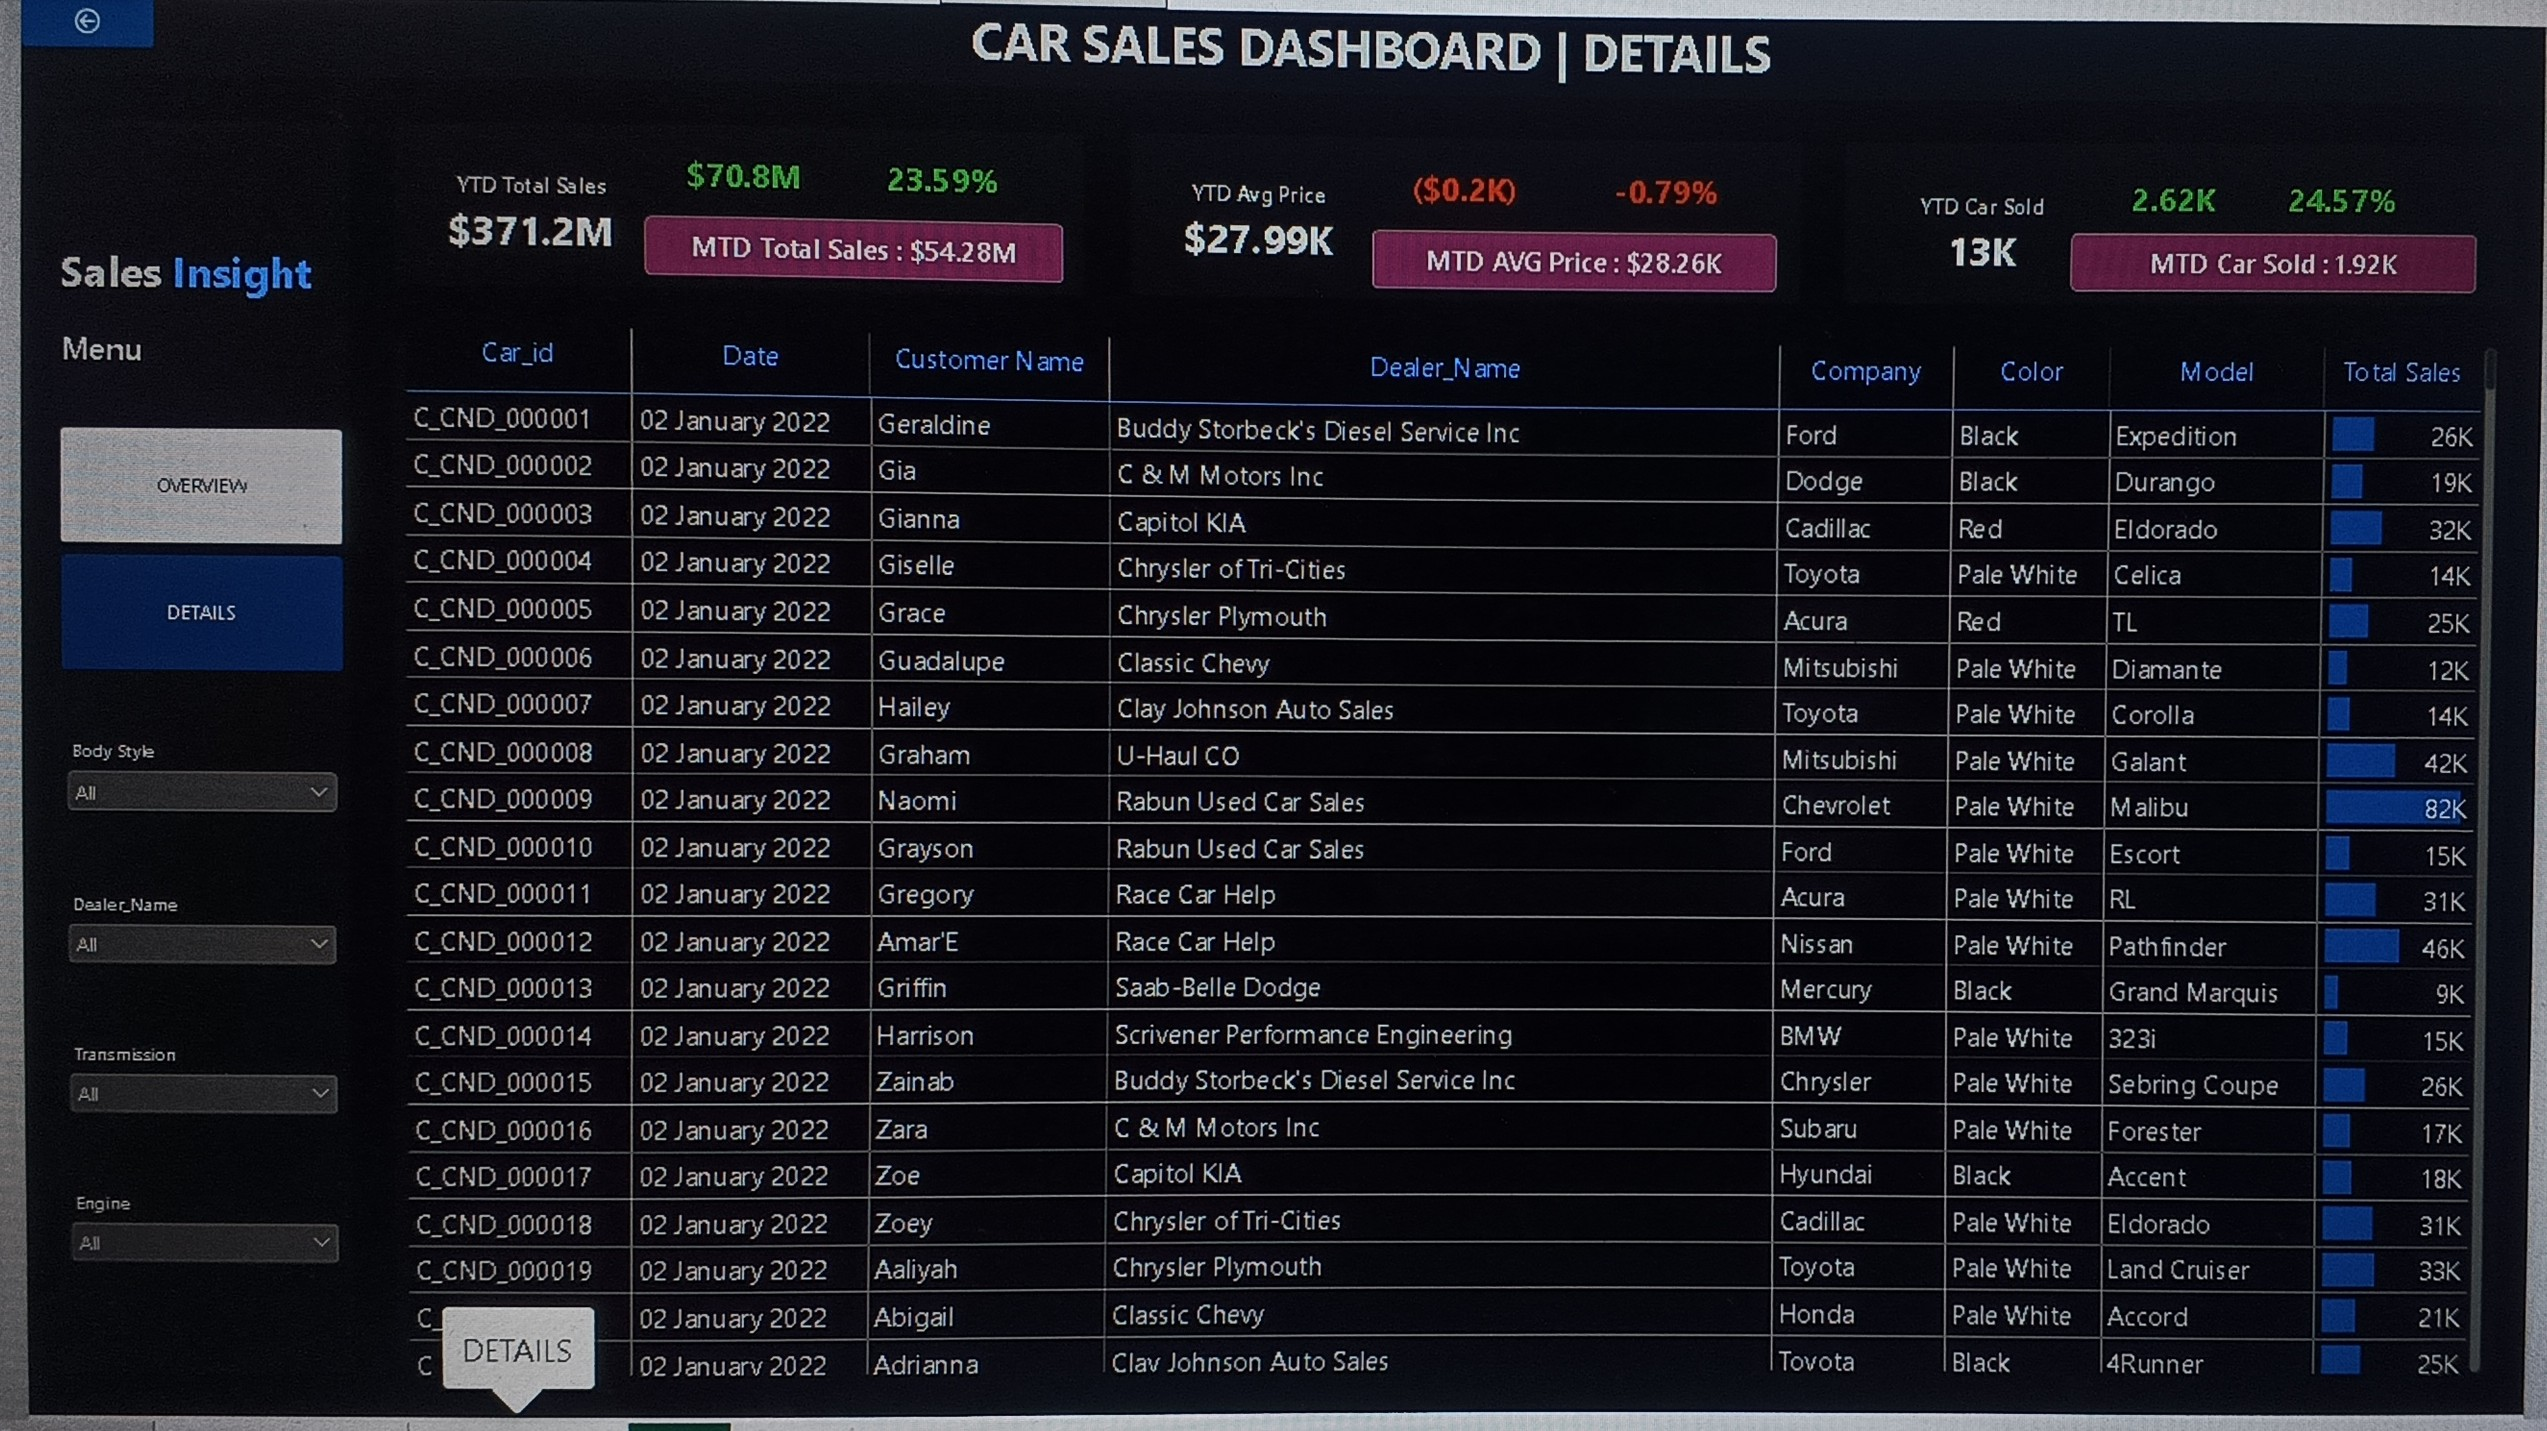

The dashboard page shown, as its layout file describes it:
{"tool":"powerbi","page":{"name":"DETAILS","canvas":[1920,1080],"ordinal":1},"visuals":[{"type":"cardVisual","fields":{"Data":["car_data.YTD Total Sales"]},"box":[190,52.5,387.5,220],"z":0},{"type":"cardVisual","fields":{"Data":["car_data.Sales Differances"]},"box":[438,98,210,62],"z":1000},{"type":"cardVisual","fields":{"Data":["car_data.YoY Sales Growth"]},"box":[600,98,180,62],"z":2000},{"type":"cardVisual","fields":{"Data":["car_data.MTD KPI"]},"box":[468,162,312,44],"z":3000},{"type":"cardVisual","fields":{"Data":["car_data.YTD Avg Price"]},"box":[736,50,387.5,220],"z":4000},{"type":"cardVisual","fields":{"Data":["car_data.Avg Diff price"]},"box":[982,98,210,62],"z":5000},{"type":"cardVisual","fields":{"Data":["car_data.YoY Avg Growth Price"]},"box":[1138,98,210,62],"z":6000},{"type":"cardVisual","fields":{"Data":["car_data.MTD AVG KPI"]},"box":[1016,162,312,44],"z":7000},{"type":"cardVisual","fields":{"Data":["car_data.YTD Car Sold"]},"box":[1292.4,52.2,387.5,220],"z":8000},{"type":"cardVisual","fields":{"Data":["car_data.Sold Car Diff"]},"box":[1528.6,102.2,210,62],"z":9000},{"type":"cardVisual","fields":{"Data":["car_data.YTD Car Sold Growth"]},"box":[1658.1,102.2,210,62],"z":10000},{"type":"cardVisual","fields":{"Data":["car_data.MTD Car Sold KPI"]},"box":[1555.8,161.3,312,44],"z":11000},{"type":"textbox","box":[630,0,775,80],"z":17000},{"type":"actionButton","box":[0,0,100,40],"z":18000},{"type":"slicer","fields":{"Values":["car_data.Dealer_Name"]},"box":[29.5,674.6,212.5,112.5],"z":19000},{"type":"slicer","fields":{"Values":["car_data.Transmission"]},"box":[29.5,788.1,212.5,112.5],"z":20000},{"type":"slicer","fields":{"Values":["car_data.Engine"]},"box":[29.5,901.7,212.5,112.5],"z":21000},{"type":"slicer","fields":{"Values":["car_data.Body Style"]},"box":[29.5,558.7,212.9,87.1],"z":22000},{"type":"tableEx","fields":{"Values":["car_data.Car_id","car_data.Date","car_data.Customer Name","car_data.Dealer_Name","car_data.Company","car_data.Color","car_data.Model","car_data.Total Sales"]},"box":[272.5,232.5,1627.5,825],"z":22001},{"type":"textbox","box":[29.5,184,243,65.9],"z":22002},{"type":"textbox","box":[29.5,249.8,243,150],"z":22003},{"type":"pageNavigator","box":[29.5,324.8,213.5,184],"z":22004}]}

Visuals, with their boxes in screenshot pixels (x1, y1, x2, y2), scaled from the page's 1920x1080 canvas onto the 2547x1431 screenshot:
cardVisual - car_data.YTD Total Sales: {"x1": 252, "y1": 70, "x2": 766, "y2": 361}
cardVisual - car_data.Sales Differances: {"x1": 581, "y1": 130, "x2": 860, "y2": 212}
cardVisual - car_data.YoY Sales Growth: {"x1": 796, "y1": 130, "x2": 1035, "y2": 212}
cardVisual - car_data.MTD KPI: {"x1": 621, "y1": 215, "x2": 1035, "y2": 273}
cardVisual - car_data.YTD Avg Price: {"x1": 976, "y1": 66, "x2": 1490, "y2": 358}
cardVisual - car_data.Avg Diff price: {"x1": 1303, "y1": 130, "x2": 1581, "y2": 212}
cardVisual - car_data.YoY Avg Growth Price: {"x1": 1510, "y1": 130, "x2": 1788, "y2": 212}
cardVisual - car_data.MTD AVG KPI: {"x1": 1348, "y1": 215, "x2": 1762, "y2": 273}
cardVisual - car_data.YTD Car Sold: {"x1": 1714, "y1": 69, "x2": 2228, "y2": 361}
cardVisual - car_data.Sold Car Diff: {"x1": 2028, "y1": 135, "x2": 2306, "y2": 218}
cardVisual - car_data.YTD Car Sold Growth: {"x1": 2200, "y1": 135, "x2": 2478, "y2": 218}
cardVisual - car_data.MTD Car Sold KPI: {"x1": 2064, "y1": 214, "x2": 2478, "y2": 272}
textbox: {"x1": 836, "y1": 0, "x2": 1864, "y2": 106}
actionButton: {"x1": 0, "y1": 0, "x2": 133, "y2": 53}
slicer - car_data.Dealer_Name: {"x1": 39, "y1": 894, "x2": 321, "y2": 1043}
slicer - car_data.Transmission: {"x1": 39, "y1": 1044, "x2": 321, "y2": 1193}
slicer - car_data.Engine: {"x1": 39, "y1": 1195, "x2": 321, "y2": 1344}
slicer - car_data.Body Style: {"x1": 39, "y1": 740, "x2": 322, "y2": 856}
tableEx - car_data.Car_id x car_data.Date: {"x1": 361, "y1": 308, "x2": 2520, "y2": 1401}
textbox: {"x1": 39, "y1": 244, "x2": 361, "y2": 331}
textbox: {"x1": 39, "y1": 331, "x2": 361, "y2": 530}
pageNavigator: {"x1": 39, "y1": 430, "x2": 322, "y2": 674}
